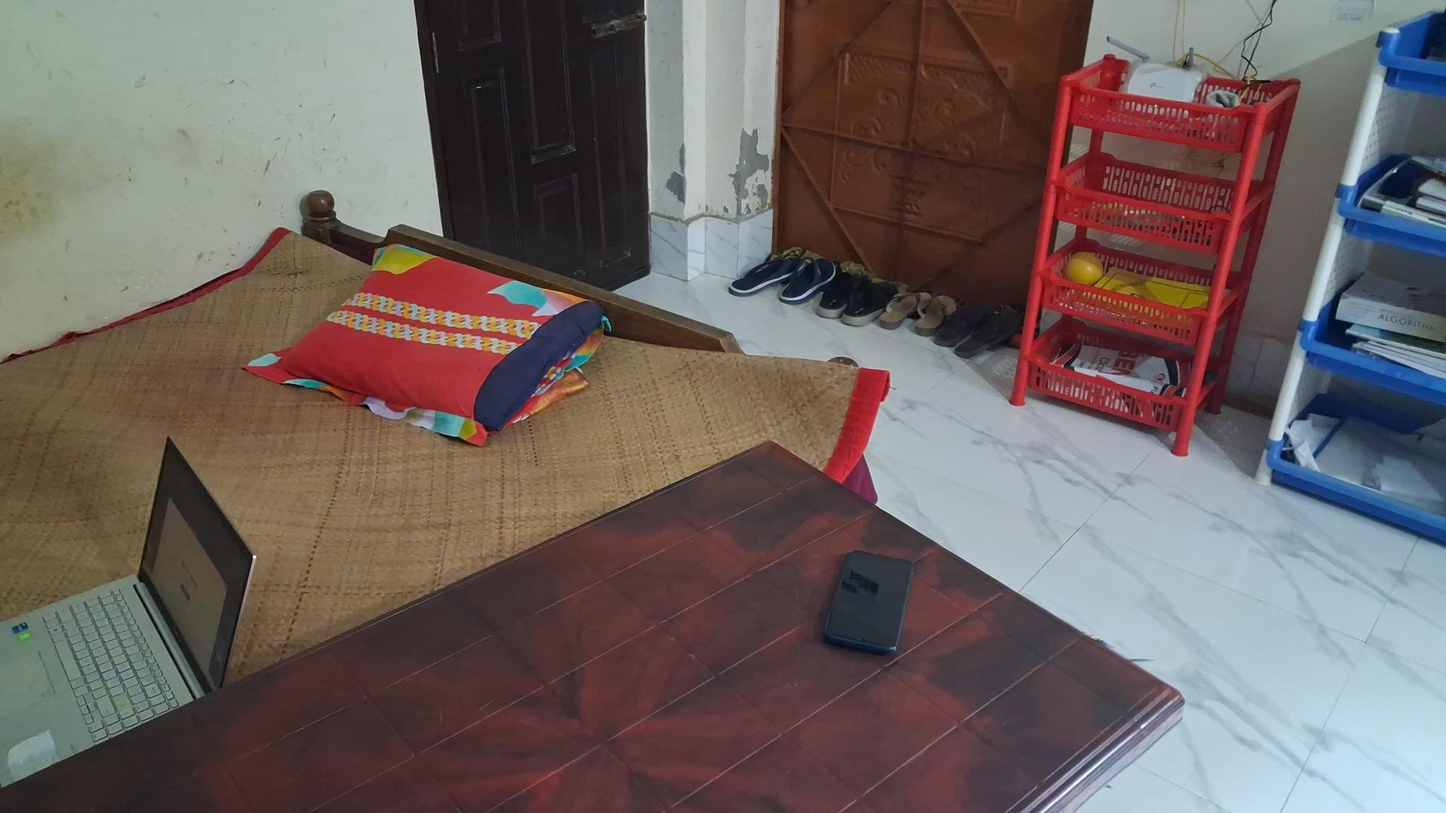Footwear: (728, 249, 834, 305), (935, 304, 1014, 354), (879, 286, 957, 332), (821, 272, 883, 329)
Laptop: (1, 437, 259, 789)
Phone: (824, 551, 915, 652)
Pillow: (249, 248, 608, 450)
Rack: (1023, 56, 1308, 470), (1261, 5, 1446, 539)
Table: (0, 436, 1183, 813)
